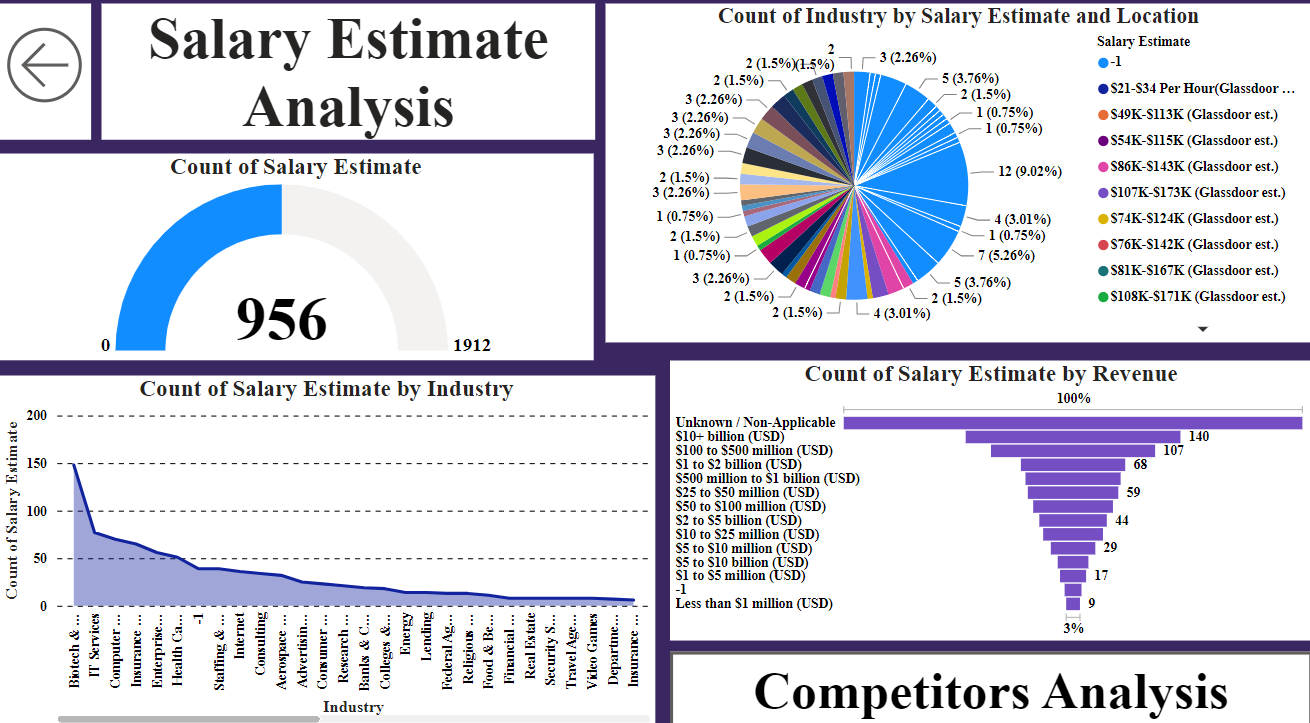

What the dashboard file says about the page in this screenshot:
{"tool":"powerbi","page":{"name":"Salary Estimate Analysis","canvas":[1280,720],"ordinal":1},"visuals":[{"type":"stackedAreaChart","fields":{"Y":["CountNonNull(glassdoor_jobs.Salary Estimate)"],"Category":["glassdoor_jobs.Industry"]},"box":[0,375.3,639.7,343.2],"z":0},{"type":"actionButton","box":[0,13.1,90.5,132.9],"z":1000},{"type":"textbox","title":"Salary Estimate Analysis","box":[100.8,13.1,480.5,132.9],"z":2000},{"type":"funnel","fields":{"Category":["glassdoor_jobs.Revenue"],"Y":["CountNonNull(glassdoor_jobs.Salary Estimate)"]},"box":[654.1,360.4,625.4,272.6],"z":3000},{"type":"pieChart","fields":{"Category":["glassdoor_jobs.Salary Estimate"],"Series":["glassdoor_jobs.Location"],"Y":["CountNonNull(glassdoor_jobs.Industry)"]},"box":[592.1,13.6,687.4,330.1],"z":4000},{"type":"gauge","fields":{"Y":["CountNonNull(glassdoor_jobs.Salary Estimate)"]},"box":[0,159.2,579.8,201.5],"z":5000},{"type":"actionButton","title":"Competitors Analysis","box":[654.1,643.5,625.4,75.7],"z":6000}]}

Visuals, with their boxes in screenshot pixels (x1, y1, x2, y2), scaled from the page's 1280x720 canvas onto the 1310x723 screenshot:
stackedAreaChart - CountNonNull(glassdoor_jobs.Salary Estimate) x glassdoor_jobs.Industry: 0/377/655/721
actionButton: 0/13/93/147
"Salary Estimate Analysis" textbox: 103/13/595/147
funnel - glassdoor_jobs.Revenue x CountNonNull(glassdoor_jobs.Salary Estimate): 669/362/1309/636
pieChart - glassdoor_jobs.Salary Estimate x glassdoor_jobs.Location: 606/14/1309/345
gauge - CountNonNull(glassdoor_jobs.Salary Estimate): 0/160/593/362
"Competitors Analysis" actionButton: 669/646/1309/722
